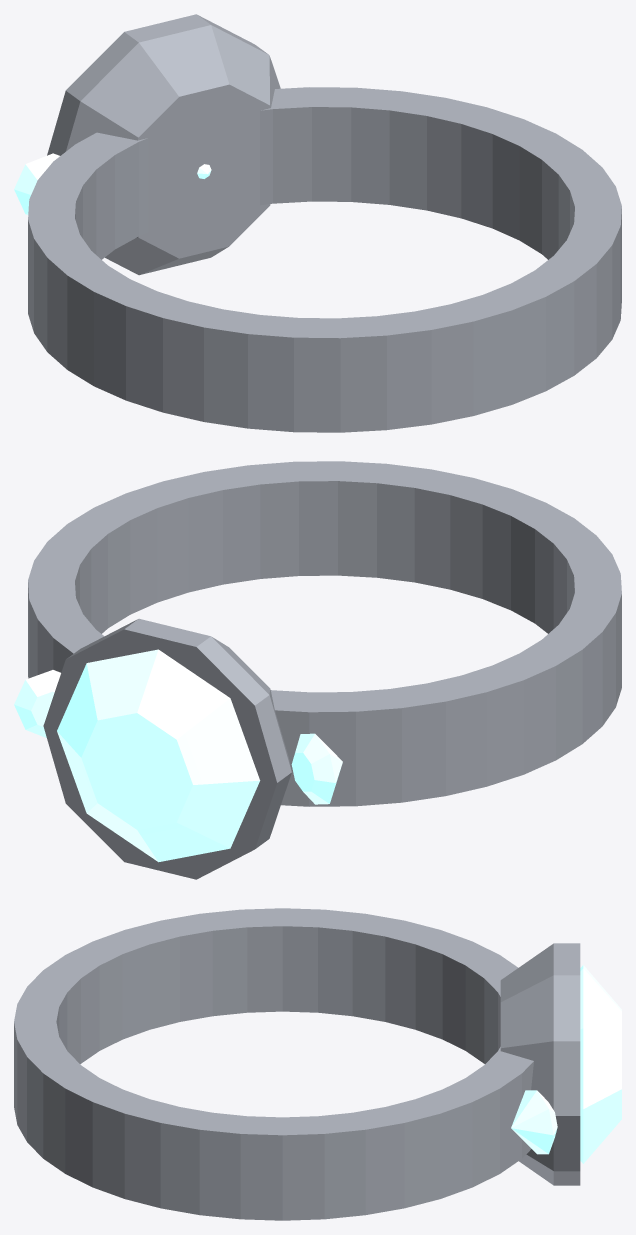
File: ring_frost.glb
The picture shows the model from 3 angles, top to bottom: view 1: azimuth 30°, elevation 25°; view 2: azimuth 150°, elevation 25°; view 3: azimuth 270°, elevation 25°; orthographic projection. The views are drawn at different scales.
Visible parts, largest first — view 1: Ring_Frost_Steel, Ring_Frost_Gem_cold; view 2: Ring_Frost_Steel, Ring_Frost_Gem_cold; view 3: Ring_Frost_Steel, Ring_Frost_Gem_cold.
Boxes of the visible parts, left/top/right/bottom form: Ring_Frost_Steel: left=28, top=14, right=621, bottom=432; Ring_Frost_Gem_cold: left=14, top=153, right=211, bottom=214; Ring_Frost_Steel: left=28, top=461, right=621, bottom=879; Ring_Frost_Gem_cold: left=14, top=649, right=342, bottom=862; Ring_Frost_Steel: left=14, top=908, right=580, bottom=1220; Ring_Frost_Gem_cold: left=511, top=965, right=621, bottom=1163.
Size of the model in its own units: 0.0228 by 0.00984 by 0.0258.
